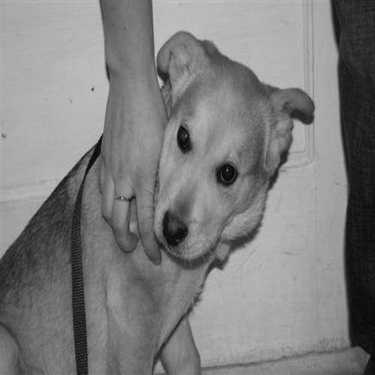dog: (3, 28, 322, 373)
